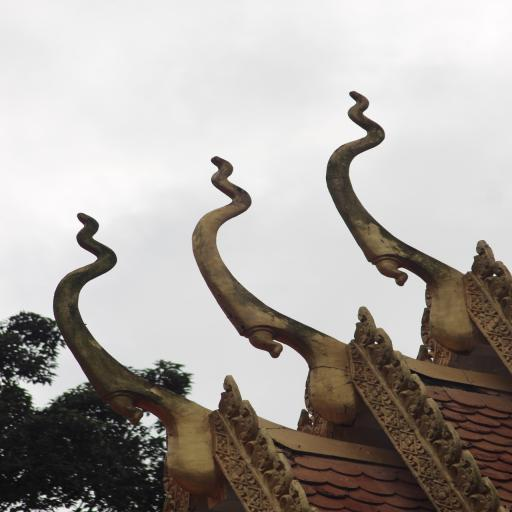la: (279, 477, 316, 512), (468, 476, 502, 512), (453, 450, 479, 496), (434, 421, 460, 465), (219, 374, 244, 418), (266, 452, 290, 496), (234, 400, 259, 441), (400, 372, 424, 414), (417, 398, 441, 440), (253, 429, 275, 472), (386, 351, 408, 392), (355, 306, 376, 348), (488, 260, 512, 296), (368, 326, 390, 364), (475, 239, 495, 279)
